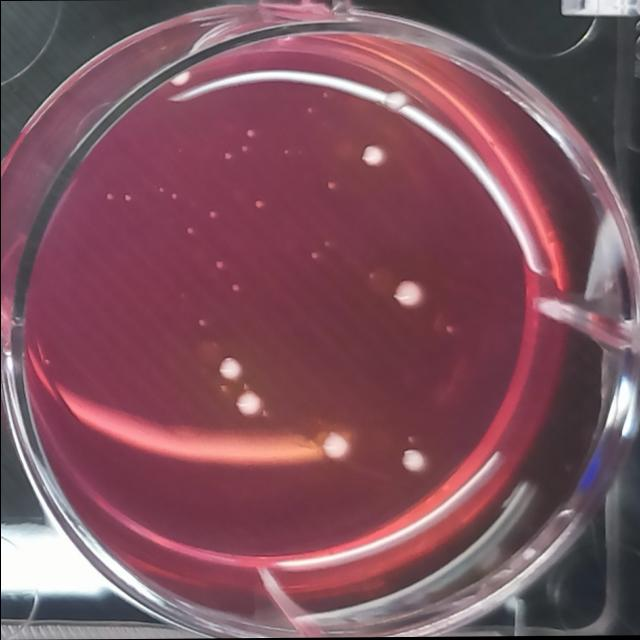StaphyloPositive: (392, 276, 426, 316), (232, 384, 264, 419), (318, 428, 353, 460), (357, 139, 389, 169), (399, 444, 429, 474), (214, 353, 242, 385)
